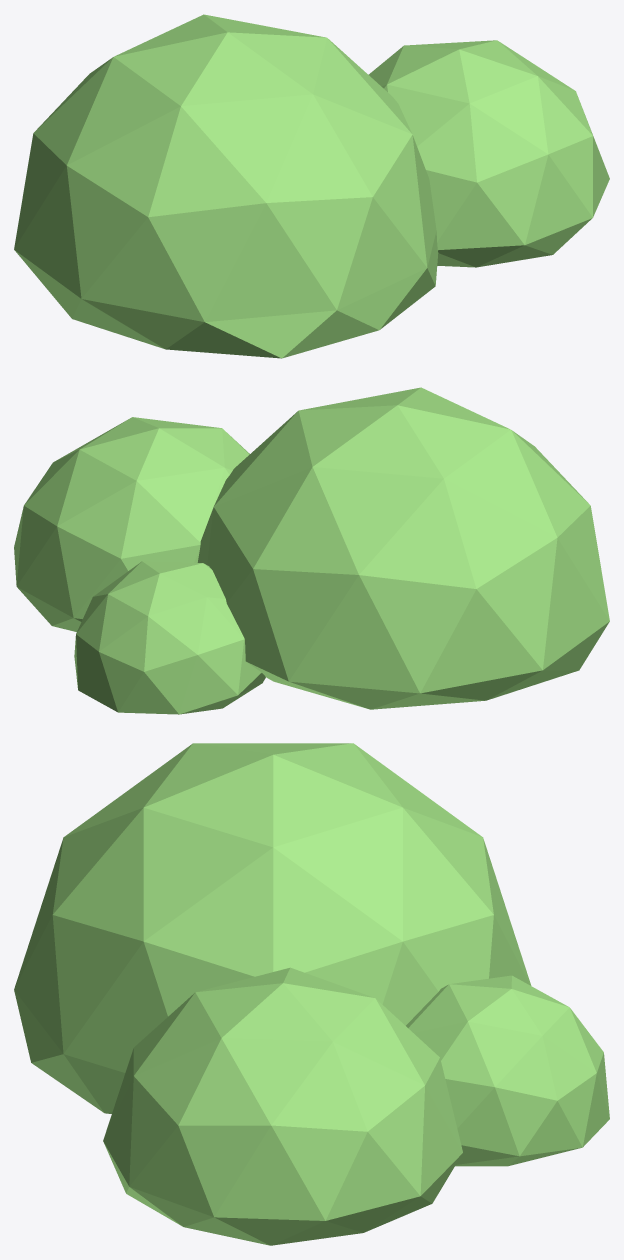
Rendered from bush1.fbx.
3 views of the same model, one above another, from view 1: azimuth 30°, elevation 25°; view 2: azimuth 150°, elevation 25°; view 3: azimuth 270°, elevation 25° (orthographic). The views are drawn at different scales.
Visible parts, largest first — view 1: Icosphere.002; view 2: Icosphere.002; view 3: Icosphere.002.
Boxes of the visible parts, x1,y1,x2,y2 form: Icosphere.002: (14, 14, 609, 358); Icosphere.002: (14, 387, 609, 714); Icosphere.002: (14, 743, 609, 1245).
Bounding box in the file's own units: 546 × 245 × 437.
